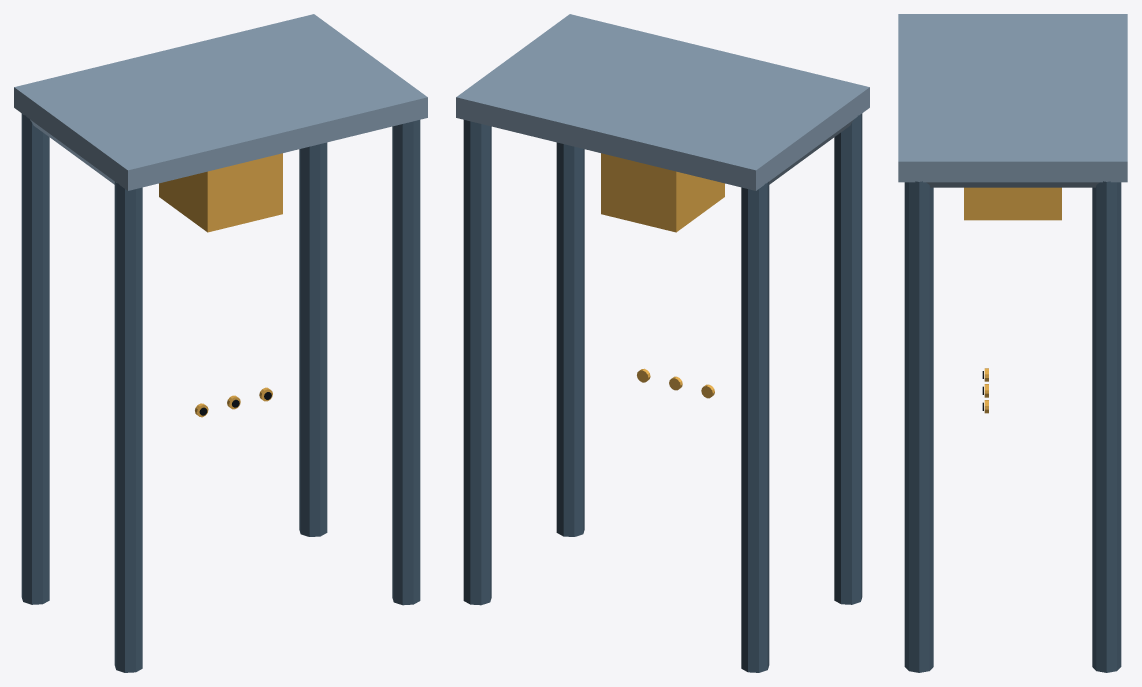
File: 06_L92_ExteriorLanderDeploymentBay.fbx
The picture shows the model from 3 angles, left to right: view 1: azimuth 30°, elevation 25°; view 2: azimuth 150°, elevation 25°; view 3: azimuth 270°, elevation 25°; orthographic projection.
Parts seen in each view (by area): view 1: L92_ExteriorLanderDeploymentBay, L92_ExteriorLanderDeploymentBay_Part_0002, L92_ExteriorLanderDeploymentBay_Part_0003; view 2: L92_ExteriorLanderDeploymentBay, L92_ExteriorLanderDeploymentBay_Part_0002, L92_ExteriorLanderDeploymentBay_Part_0003; view 3: L92_ExteriorLanderDeploymentBay_Part_0002, L92_ExteriorLanderDeploymentBay, L92_ExteriorLanderDeploymentBay_Part_0003.
Part boxes in pixels (x1,y1,x2,y2): L92_ExteriorLanderDeploymentBay: (21, 113, 420, 672); L92_ExteriorLanderDeploymentBay_Part_0002: (14, 14, 427, 190); L92_ExteriorLanderDeploymentBay_Part_0003: (159, 153, 282, 232); L92_ExteriorLanderDeploymentBay: (463, 113, 862, 672); L92_ExteriorLanderDeploymentBay_Part_0002: (456, 14, 869, 190); L92_ExteriorLanderDeploymentBay_Part_0003: (601, 153, 724, 232); L92_ExteriorLanderDeploymentBay_Part_0002: (898, 14, 1127, 182); L92_ExteriorLanderDeploymentBay: (904, 181, 1121, 672); L92_ExteriorLanderDeploymentBay_Part_0003: (964, 187, 1061, 220).
Bounding box in the file's own units: 338 × 541 × 220.
